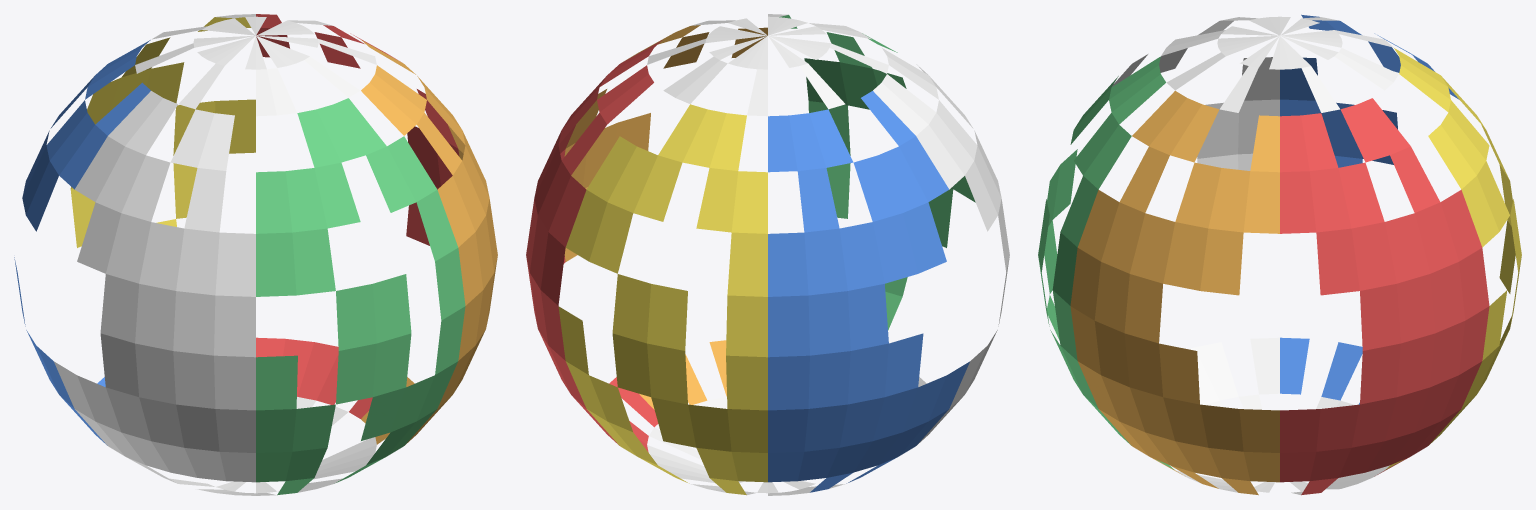
File: beach_ball.glb
The picture shows the model from 3 angles, left to right: view 1: azimuth 30°, elevation 25°; view 2: azimuth 150°, elevation 25°; view 3: azimuth 270°, elevation 25°; orthographic projection.
Parts seen in each view (by area): view 1: BeachBall; view 2: BeachBall; view 3: BeachBall.
Boxes of the visible parts, x1=… form: BeachBall: x1=14, y1=14, x2=497, y2=495; BeachBall: x1=526, y1=14, x2=1009, y2=495; BeachBall: x1=1038, y1=14, x2=1521, y2=495.
Bounding box in the file's own units: 0.3 × 0.3 × 0.3.
